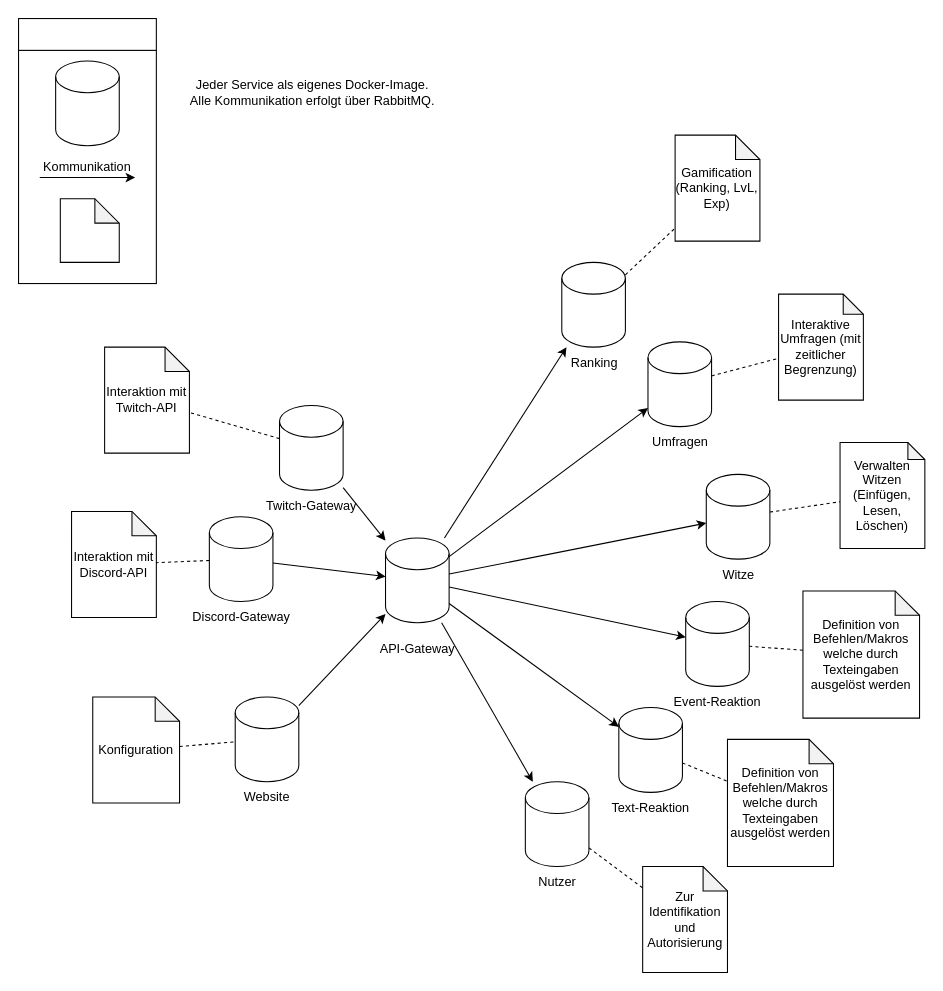
Some shapes in this 943 by 991 pixel diagram are drawn without their labels. Here are the shapes that lost their labels. From the top down, the centre of each, then its label:
point 86,33: Legende
point 87,103: Service
point 89,230: Notiz
